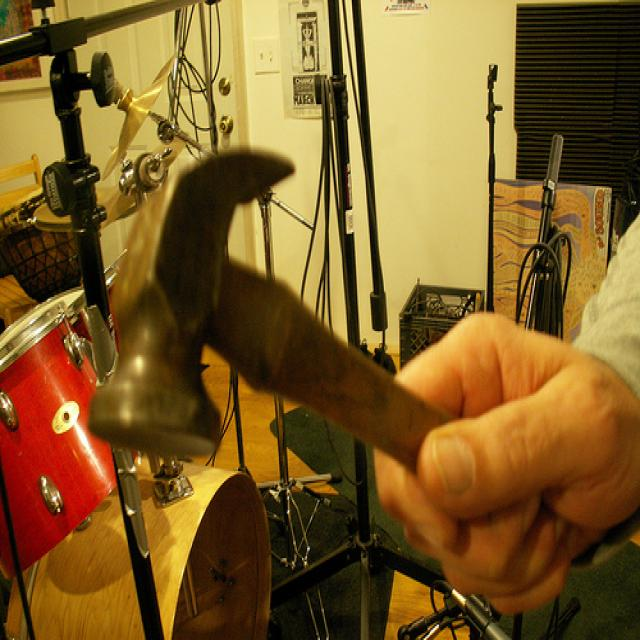hammer: (82, 98, 438, 496)
